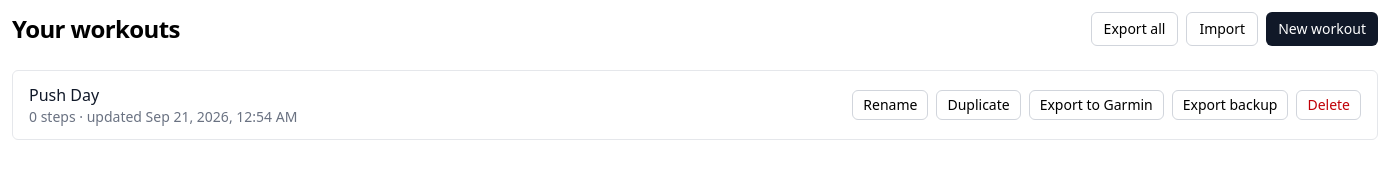
WorkoutLibrary › abandons a rename on Escape
Click the button "Rename": point(890, 105) left=852, top=90, right=928, bottom=120
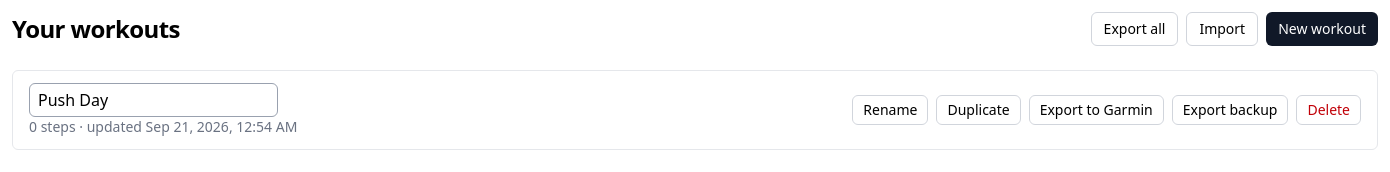
In the field named "Rename Push Day": point(154, 100) left=29, top=83, right=278, bottom=117, type "X"
Then press Escape
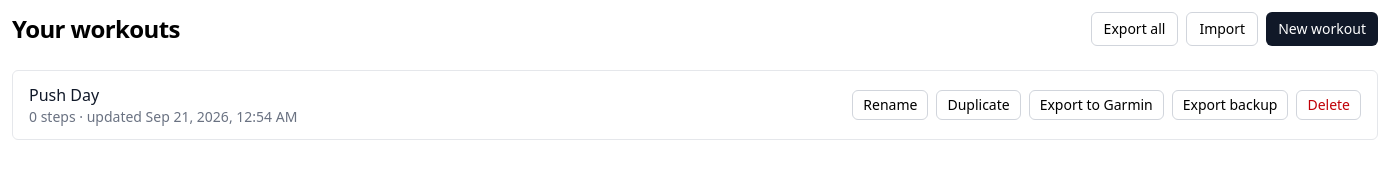
Expected: the button "Push Day" is shown, left=29, top=83, right=99, bottom=107
